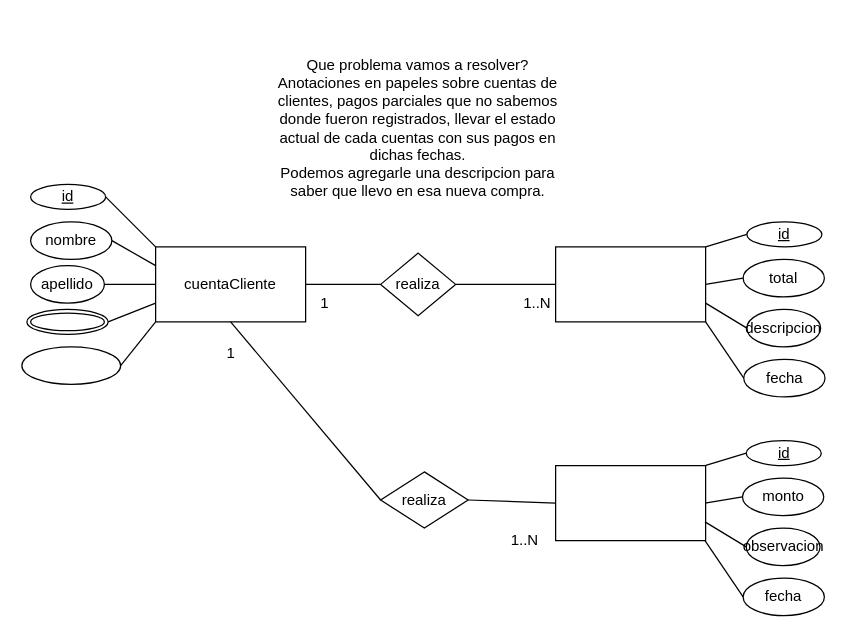
Some shapes in this 848 by 638 pixel diagram are drawn without their labels. Here are the shapes that lost their labels. From the top down, the box of each, then its label:
(554, 246, 706, 322): compra
(26, 308, 108, 334): tel
(21, 346, 121, 384): email
(554, 464, 706, 541): pago
